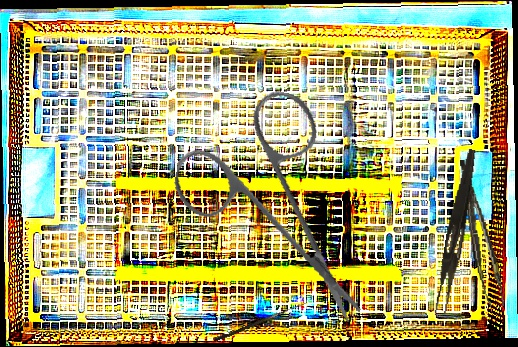Dressing Forceps: (434, 147, 478, 316)
Hook Surgical: (213, 298, 306, 344)
Iris Scissors: (154, 75, 399, 324)
Tissue Forceps: (459, 157, 505, 309)
